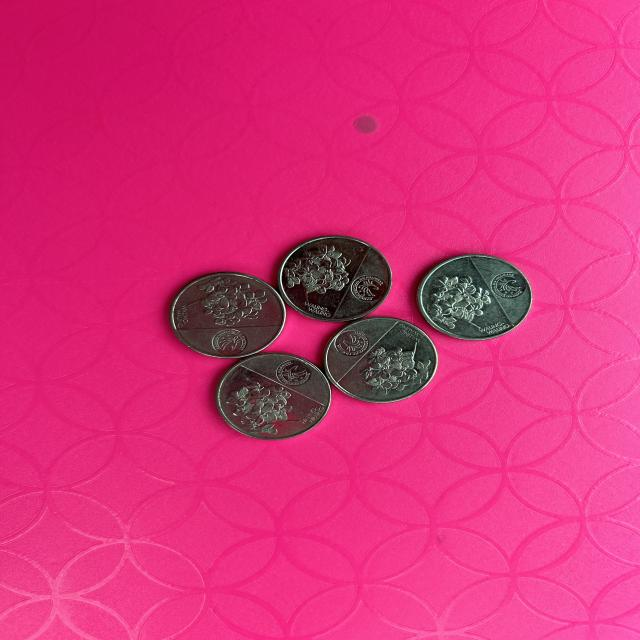1_New_Back: (220, 380, 304, 433), (424, 268, 495, 330), (183, 274, 264, 320), (358, 341, 432, 390), (282, 242, 346, 296)
